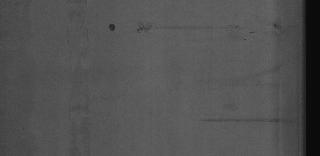oil spot: (107, 22, 119, 34)
rolled pit: (62, 2, 94, 156)
water spot: (136, 22, 247, 34), (194, 116, 298, 126)
